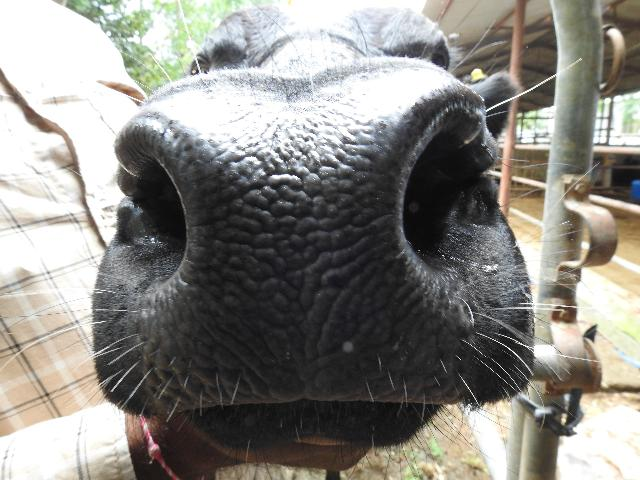Muzzle: (169, 109, 425, 390)
